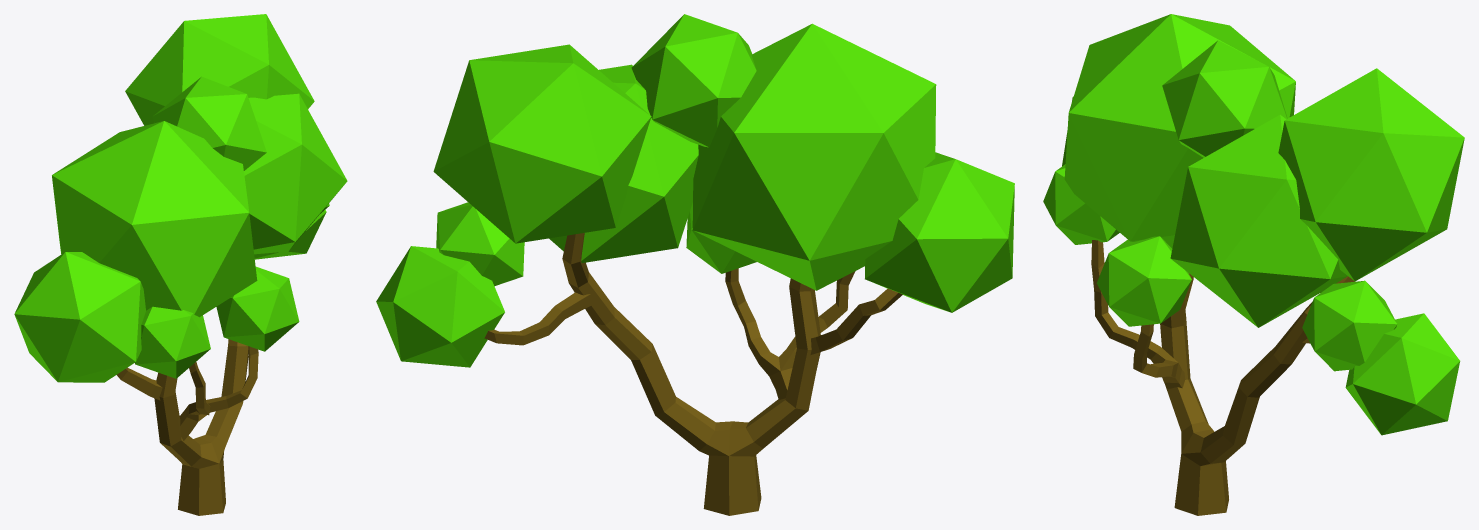
Rendered from arbol.fbx.
3 views of the same model, side by side, from view 1: azimuth 30°, elevation 25°; view 2: azimuth 150°, elevation 25°; view 3: azimuth 270°, elevation 25° (orthographic). The views are drawn at different scales.
Parts seen in each view (by area): view 1: tree; view 2: tree; view 3: tree.
Boxes of the visible parts, x1,y1,x2,y2 form: tree: [14, 14, 347, 515]; tree: [376, 14, 1014, 515]; tree: [1043, 14, 1464, 515].
Bounding box in the file's own units: 2798 × 2654 × 2165.
